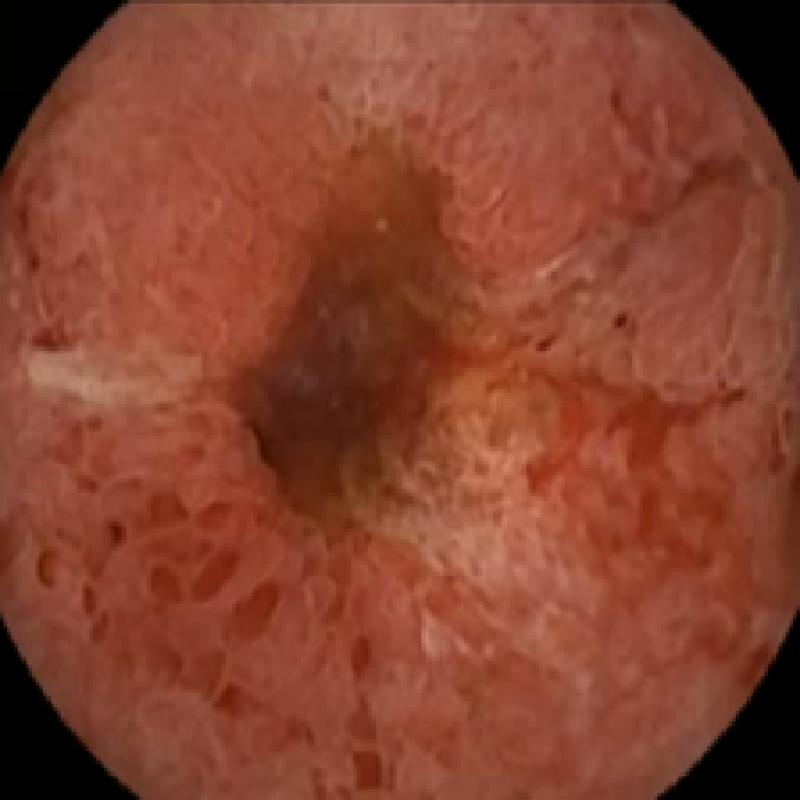bleeding: (60, 157, 800, 792)
